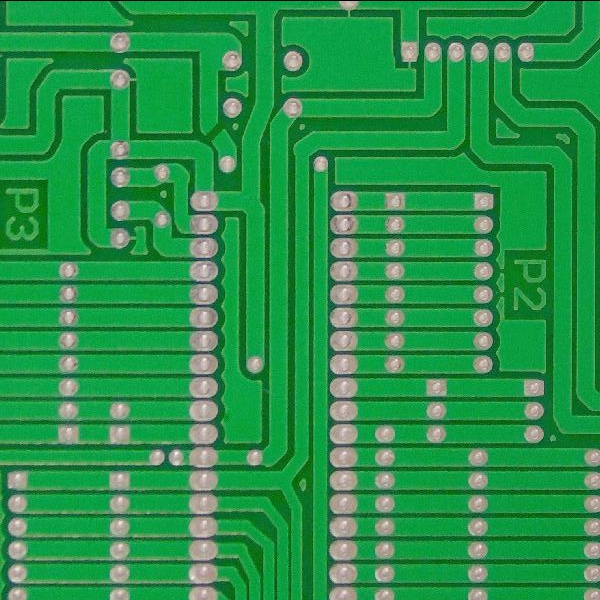open_circuit: (198, 116, 227, 149)
